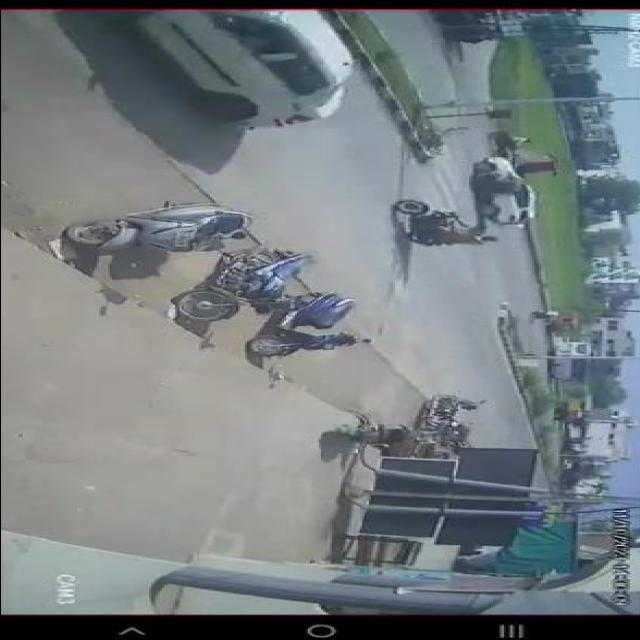accident: (459, 154, 553, 230)
